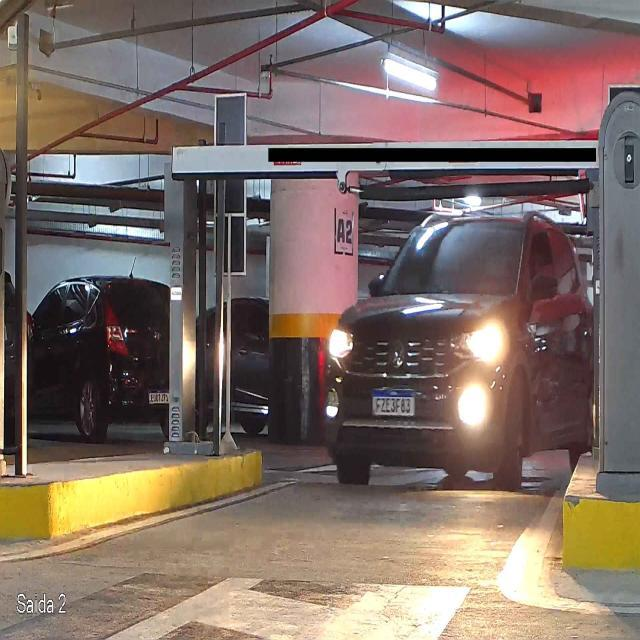mercosul_plate: (368, 387, 416, 418)
